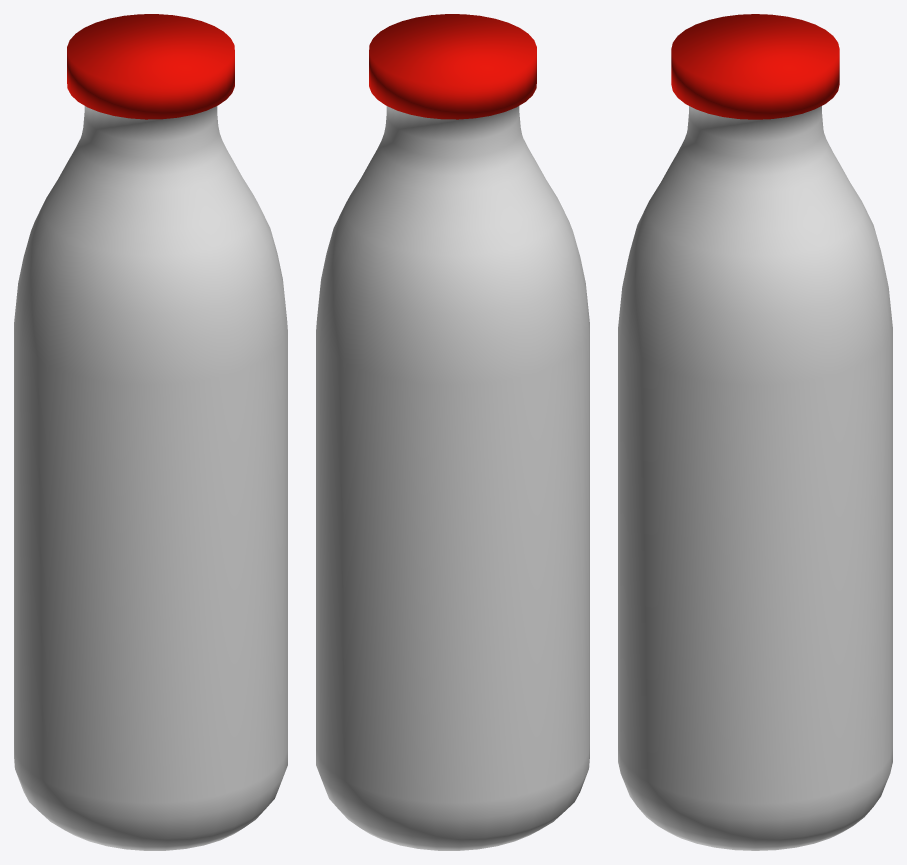
File: kapaklı şişe.fbx
3 views of the same model, side by side, from view 1: azimuth 30°, elevation 25°; view 2: azimuth 150°, elevation 25°; view 3: azimuth 270°, elevation 25° (orthographic).
Visible parts, largest first — view 1: sise, kapak; view 2: sise, kapak; view 3: sise, kapak.
Boxes of the visible parts, x1=… form: sise: x1=14, y1=106, x2=287, y2=850; kapak: x1=67, y1=14, x2=234, y2=119; sise: x1=316, y1=106, x2=589, y2=850; kapak: x1=369, y1=14, x2=536, y2=119; sise: x1=618, y1=106, x2=892, y2=850; kapak: x1=671, y1=14, x2=839, y2=119.
Bounding box in the file's own units: 96.62 × 294 × 96.62.
